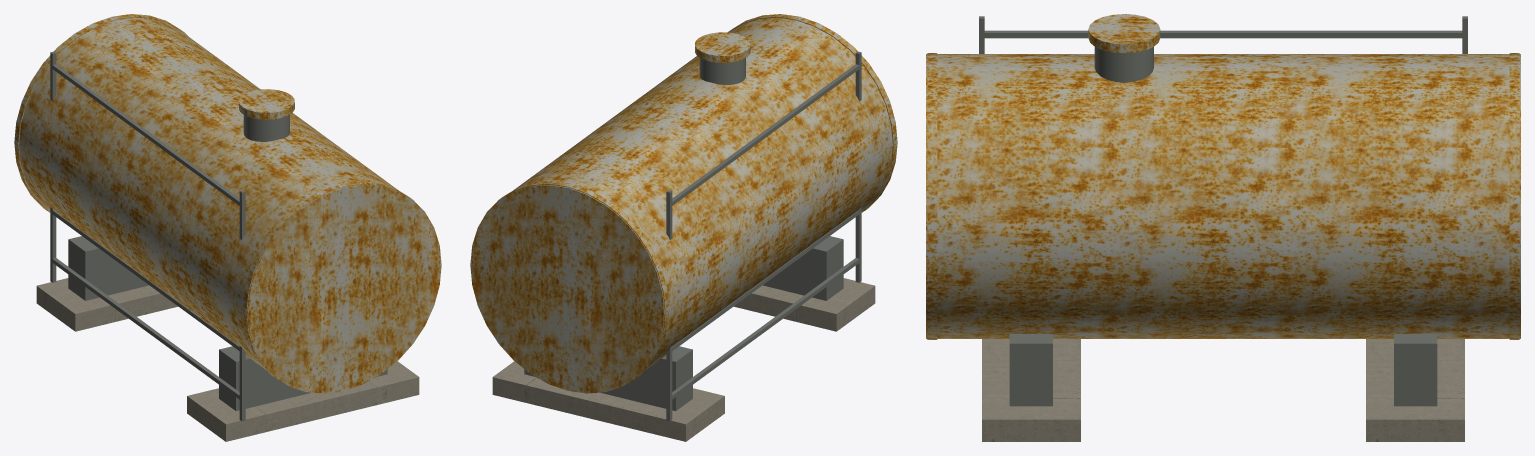
Rendered from fuel_tank.glb.
The picture shows the model from 3 angles, left to right: view 1: azimuth 30°, elevation 25°; view 2: azimuth 150°, elevation 25°; view 3: azimuth 270°, elevation 25°; orthographic projection. The views are drawn at different scales.
Parts seen in each view (by area): view 1: Horizontal_tank_body, Tank_foundation_-1.55, Tank_side_ladder, Tank_foundation_1.55, Tank_saddle_1.55, Tank_saddle_-1.55, Tank_end_cap_-2.35, Tank_end_cap_2.35, Tank_filler_cap, Tank_filler; view 2: Horizontal_tank_body, Tank_foundation_1.55, Tank_side_ladder, Tank_foundation_-1.55, Tank_saddle_-1.55, Tank_saddle_1.55, Tank_end_cap_2.35, Tank_end_cap_-2.35, Tank_filler_cap, Tank_filler; view 3: Horizontal_tank_body, Tank_foundation_-1.55, Tank_foundation_1.55, Tank_side_ladder, Tank_saddle_-1.55, Tank_saddle_1.55, Tank_end_cap_-2.35, Tank_end_cap_2.35, Tank_filler_cap, Tank_filler.
Boxes of the visible parts, x1,y1,x2,y2 form: Horizontal_tank_body: (19,17,441,392); Tank_foundation_-1.55: (187,361,419,441); Tank_side_ladder: (50,51,245,421); Tank_foundation_1.55: (36,278,177,331); Tank_saddle_1.55: (68,236,149,300); Tank_saddle_-1.55: (219,346,387,410); Tank_end_cap_-2.35: (242,181,441,393); Tank_end_cap_2.35: (14,14,188,212); Tank_filler_cap: (239,89,294,119); Tank_filler: (243,115,289,141); Horizontal_tank_body: (470,17,892,392); Tank_foundation_1.55: (492,361,724,441); Tank_side_ladder: (666,51,861,421); Tank_foundation_-1.55: (734,278,875,331); Tank_saddle_-1.55: (762,236,843,300); Tank_saddle_1.55: (524,346,692,410); Tank_end_cap_2.35: (470,181,669,393); Tank_end_cap_-2.35: (728,14,897,212); Tank_filler_cap: (695,32,750,62); Tank_filler: (699,58,745,84); Horizontal_tank_body: (926,54,1520,338); Tank_foundation_-1.55: (982,339,1080,441); Tank_foundation_1.55: (1366,339,1464,441); Tank_side_ladder: (979,16,1467,53); Tank_saddle_-1.55: (1009,334,1052,406); Tank_saddle_1.55: (1394,334,1437,406); Tank_end_cap_-2.35: (927,53,937,339); Tank_end_cap_2.35: (1509,53,1519,339); Tank_filler_cap: (1088,14,1160,53); Tank_filler: (1094,47,1153,82).
Bounding box in the file's own units: 2.32 × 3.14 × 4.8.
3 materials, 2 textured.
